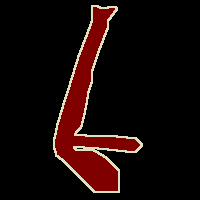tie: (54, 5, 142, 192)
